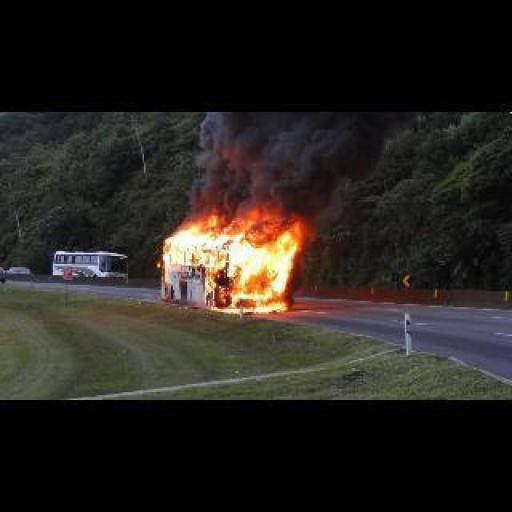smoke: (173, 112, 328, 222), (154, 212, 307, 318)
